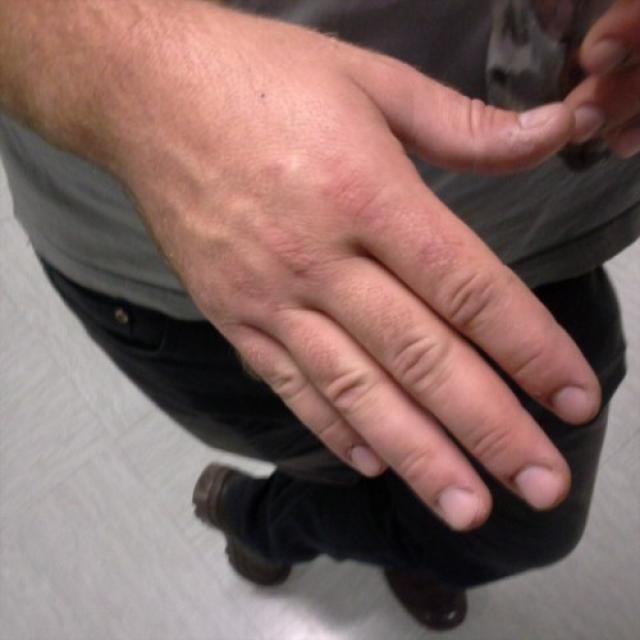paper: (166, 0, 600, 530)
